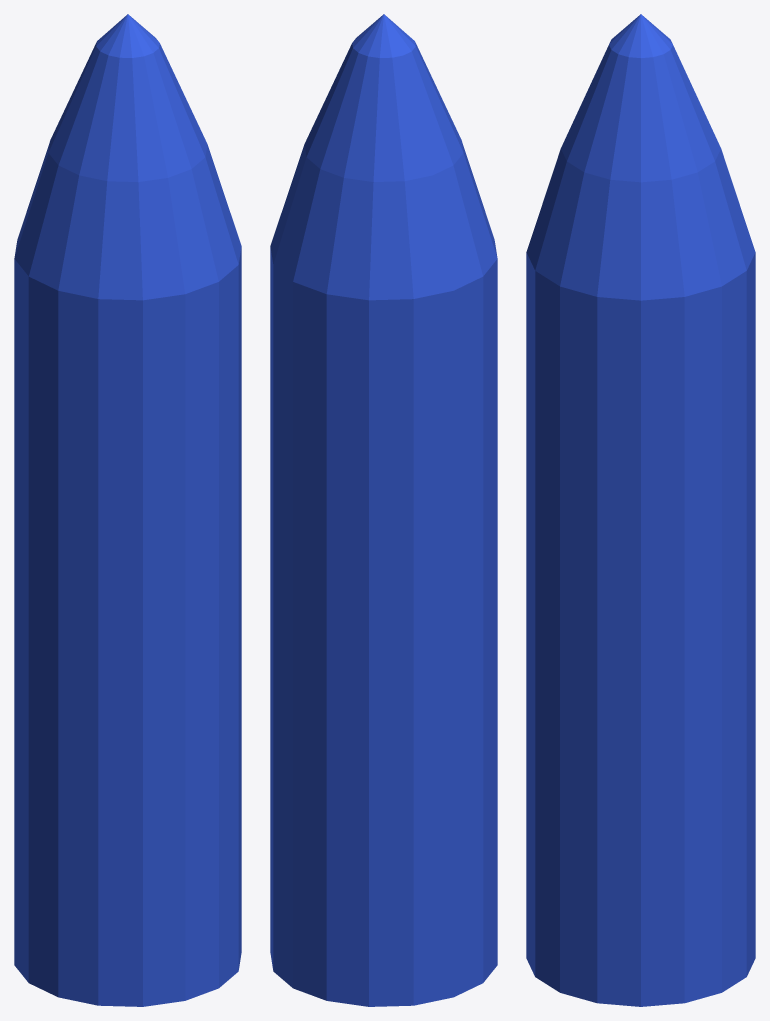
File: blade2.fbx
3 views of the same model, side by side, from view 1: azimuth 30°, elevation 25°; view 2: azimuth 150°, elevation 25°; view 3: azimuth 270°, elevation 25° (orthographic).
Parts seen in each view (by area): view 1: Cube; view 2: Cube; view 3: Cube.
Boxes of the visible parts, left/top/right/bottom form: Cube: left=14, top=14, right=241, bottom=1006; Cube: left=270, top=14, right=497, bottom=1006; Cube: left=526, top=14, right=755, bottom=1006.
Bounding box in the file's own units: 200 × 910 × 200.
